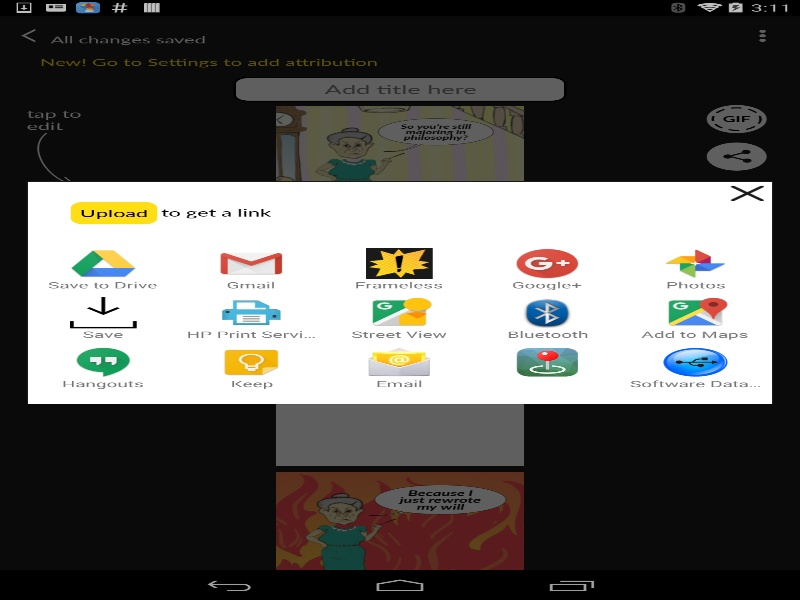Input: (233, 76, 566, 101)
